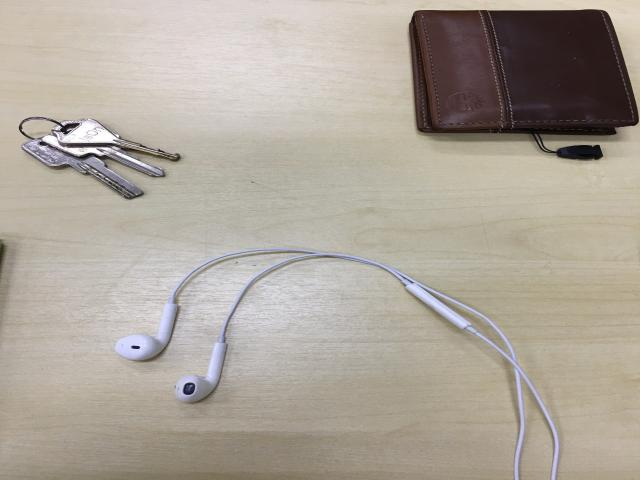Keys: (18, 118, 181, 201)
Wallet: (409, 9, 640, 136)
wire: (115, 249, 560, 480)
